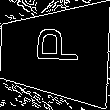P_W: (28, 34, 81, 73)
